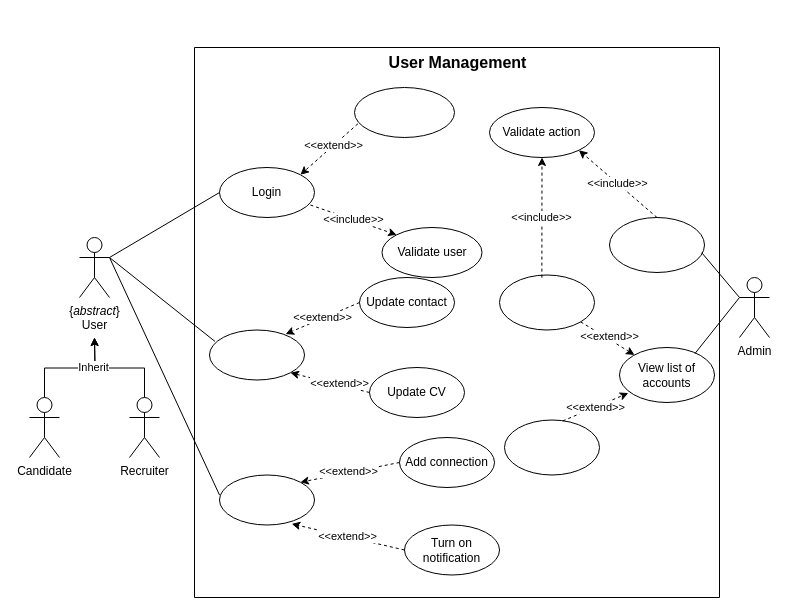
Image size: 789x615. Some labels were removed from this diagram. The shapes that lost their labels are listed below. From the top down, each one's centre as x and y in pixels, then its label:
At point 404,112: "Reset password".
At point 656,244: "CRUD users account".
At point 546,302: "Lock/Unlock".
At point 256,354: "Modify profile".
At point 552,447: "Check history activities".
At point 266,499: "View others profile".
